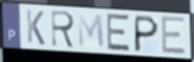E: (160, 14, 188, 56), (106, 12, 132, 53)
K: (25, 8, 46, 47)
M: (76, 11, 106, 51)
P: (132, 14, 160, 54)
R: (50, 9, 77, 50)
